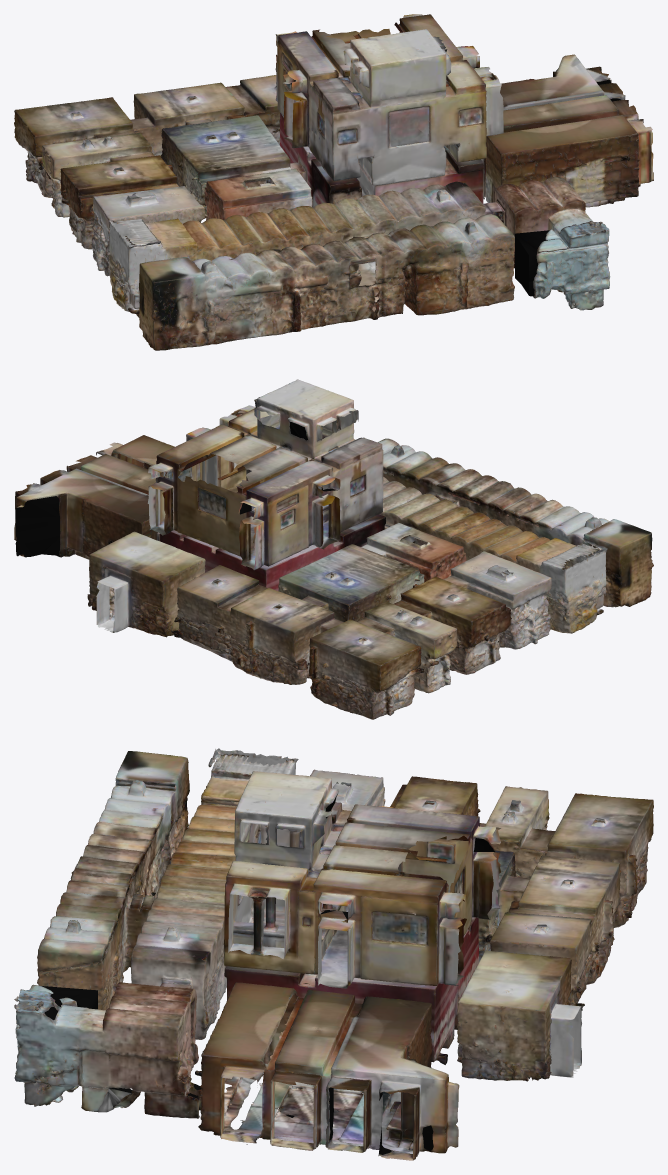
The model's file is knossos-throne-review.glb.
3 views of the same model, one above another, from view 1: azimuth 30°, elevation 25°; view 2: azimuth 150°, elevation 25°; view 3: azimuth 270°, elevation 25° (orthographic). The views are drawn at different scales.
Size of the model in its own units: 23.93 by 8.41 by 19.16.
Materials: 1 (1 with a texture image).
